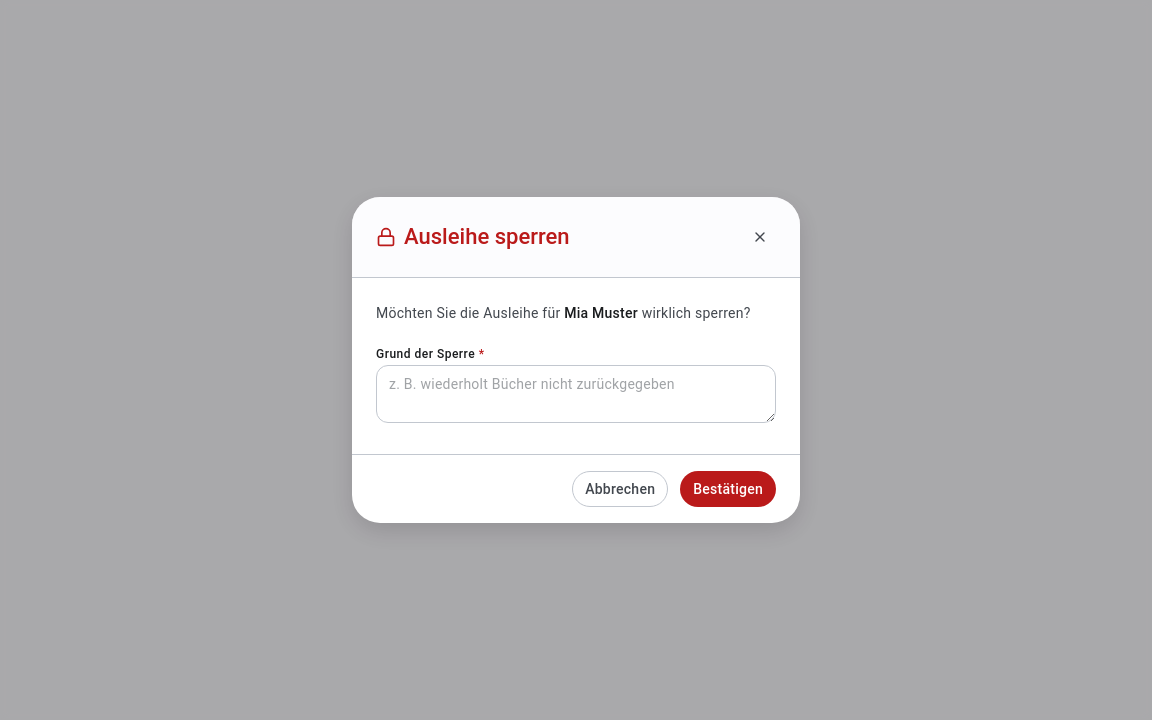
Scenario: Leser sperren: Abbrechen während der Anfrage › zeigt den Fehler im Dialog, solange er offen ist
Type "Buch verloren" into the text box at (576,394), box [376,365,776,423]
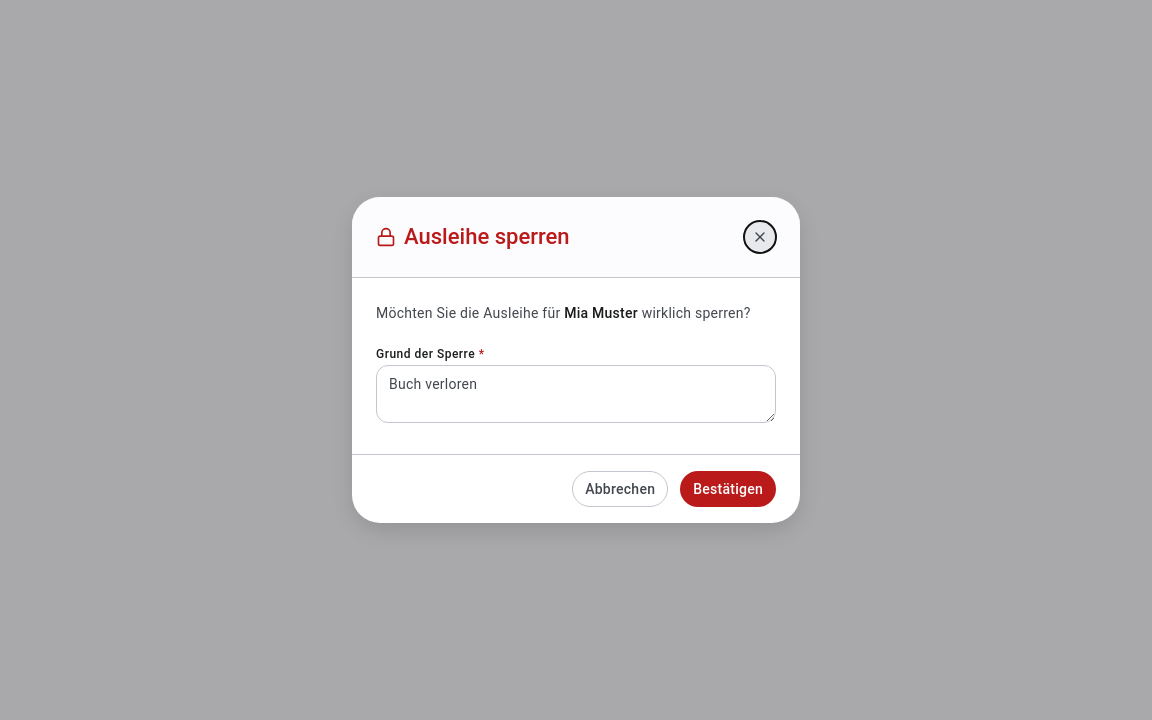
Click the button "Bestätigen" at (728,489), box [680,471,776,507]
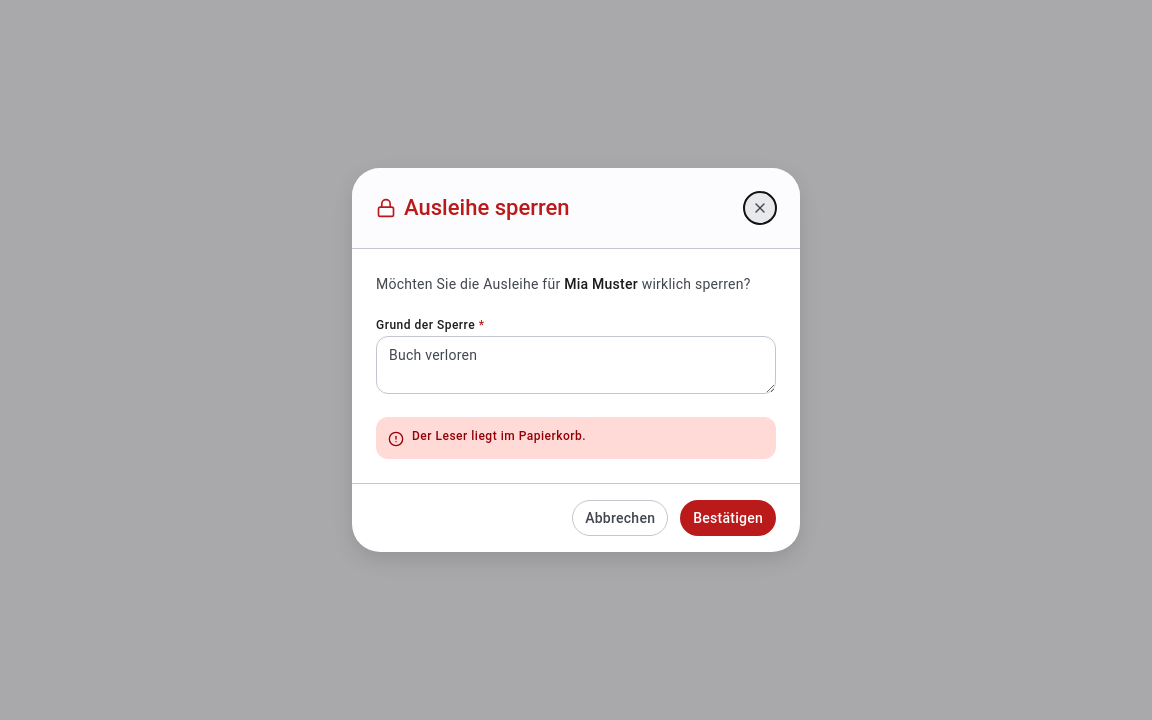
Check: the message reads "Der Leser liegt im Papierkorb.", box [412,429,586,443]
